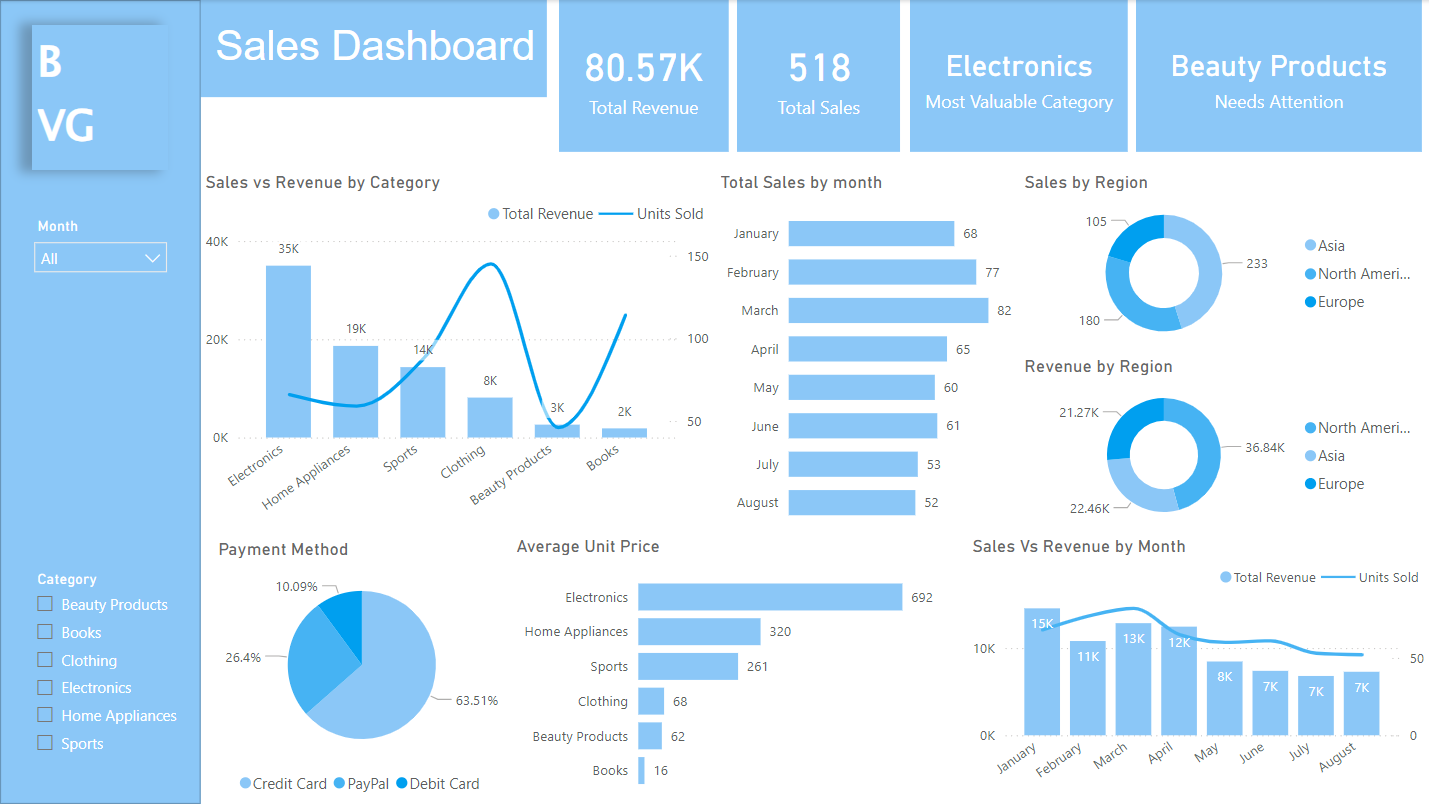

The page's visual inventory and layout, read from the dashboard file:
{"tool":"powerbi","page":{"name":"Dashboard","canvas":[1280,720],"ordinal":0},"visuals":[{"type":"shape","box":[0,0,179.7,720],"z":0,"group":"g1"},{"type":"lineStackedColumnComboChart","title":"Sales vs Revenue","fields":{"Category":["Online Sales Data.Product Category"],"Y2":["Sum(Online Sales Data.Units Sold)"],"Y":["Sum(Online Sales Data.Total Revenue)"]},"box":[180.2,153,459.8,324.4],"z":0},{"type":"barChart","title":"Total Sales by month","fields":{"Category":["Online Sales Data.Date.Variation.Date Hierarchy.Month"],"Y":["Sum(Online Sales Data.Units Sold)"]},"box":[640,153,272.5,327.9],"z":1000},{"type":"donutChart","title":"Sales by Region","fields":{"Y":["Sum(Online Sales Data.Units Sold)"],"Category":["Online Sales Data.Region"]},"box":[912.2,152.8,366.6,164.8],"z":2000},{"type":"donutChart","title":"Revenue by Region","fields":{"Category":["Online Sales Data.Region"],"Y":["Sum(Online Sales Data.Total Revenue)"]},"box":[912.2,317.6,366.6,161.2],"z":3000},{"type":"barChart","title":"Total Sales","fields":{"Category":["Online Sales Data.Product Category"],"Y":["Sum(Online Sales Data.Units Sold)"]},"box":[865.7,478.8,414.3,241.2],"z":4000},{"type":"barChart","title":"Average Unit Price","fields":{"Category":["Online Sales Data.Product Category"],"Y":["Avg(Online Sales Data.Unit Price)"]},"box":[457.3,478.8,408.4,241.2],"z":5000},{"type":"pieChart","title":"Payment Method","fields":{"Category":["Online Sales Data.Payment Method"],"Y":["Sum(Online Sales Data.Total Revenue)"]},"box":[191,478.8,266.3,241.2],"z":6000},{"type":"textbox","box":[174.1,0,315.6,87],"z":7000},{"type":"card","fields":{"Values":["Sum(Online Sales Data.Total Revenue)"]},"box":[500.9,0,151.6,135.8],"z":8000},{"type":"slicer","fields":{"Values":["Online Sales Data.Product Category"]},"box":[20.2,506.1,154,199.9],"z":8000,"group":"g1"},{"type":"card","fields":{"Values":["Sum(Online Sales Data.Units Sold)"]},"box":[660.4,0,146.3,135.8],"z":9000},{"type":"slicer","fields":{"Values":["Online Sales Data.Date.Variation.Date Hierarchy.Month"]},"box":[20.6,190.2,138.7,83.7],"z":9000,"group":"g1"},{"type":"card","fields":{"Values":["Min(Online Sales Data.Product Category)"]},"box":[814.7,0,195.1,135.8],"z":10000},{"type":"textbox","box":[28.5,22.2,121.6,130],"z":10000,"group":"g1"},{"type":"card","fields":{"Values":["Min(Online Sales Data.Product Category)"]},"box":[1017.7,0,255.7,135.8],"z":11000},{"type":"group","id":"g1","title":"Group 1","box":[0,0,179.7,720],"z":12000}]}

Visuals, with their boxes in screenshot pixels (x1, y1, x2, y2), scaled from the page's 1280x720 canvas onto the 1429x804 screenshot:
shape: 0/0/201/803
"Sales vs Revenue" lineStackedColumnComboChart: 201/171/714/533
"Total Sales by month" barChart: 714/171/1019/537
"Sales by Region" donutChart: 1018/171/1428/355
"Revenue by Region" donutChart: 1018/355/1428/535
"Total Sales" barChart: 966/535/1428/803
"Average Unit Price" barChart: 511/535/966/803
"Payment Method" pieChart: 213/535/511/803
textbox: 194/0/547/97
card - Sum(Online Sales Data.Total Revenue): 559/0/728/152
slicer - Online Sales Data.Product Category: 23/565/194/788
card - Sum(Online Sales Data.Units Sold): 737/0/901/152
slicer - Online Sales Data.Date.Variation.Date Hierarchy.Month: 23/212/178/306
card - Min(Online Sales Data.Product Category): 910/0/1127/152
textbox: 32/25/168/170
card - Min(Online Sales Data.Product Category): 1136/0/1422/152
"Group 1" group: 0/0/201/803
